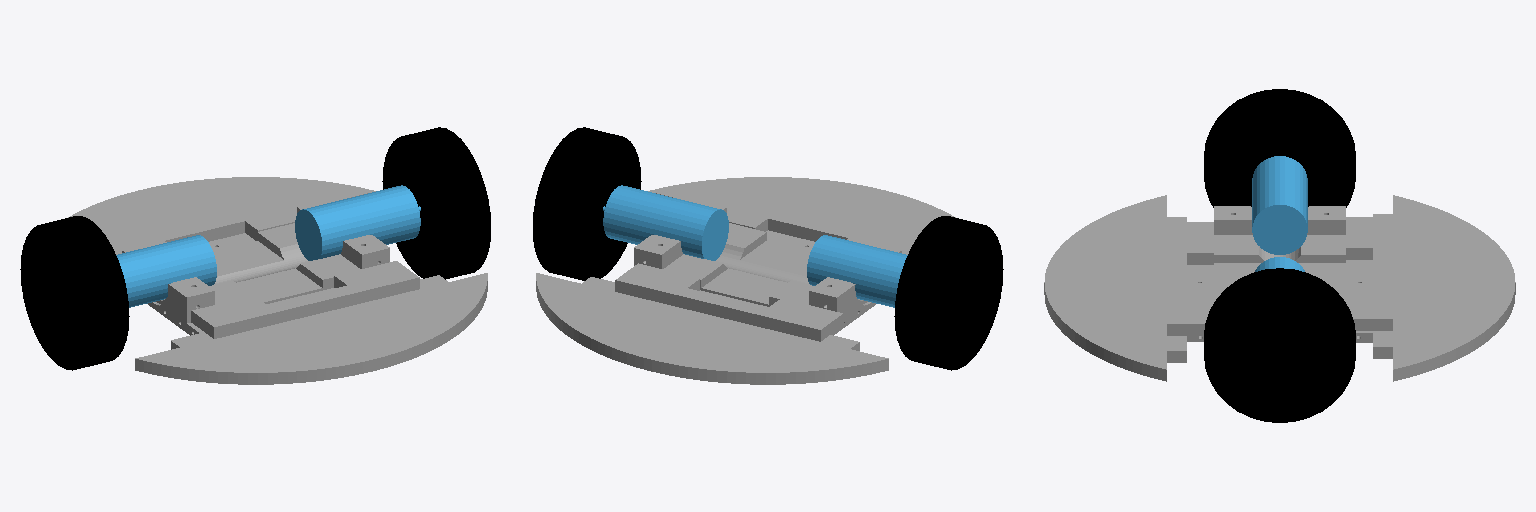
robot.urdf — pass_the_butter:
<robot name="pass_the_butter">
    <link name="base_link"/>

    <link name="base">
        <inertial>
            <origin xyz="0.0 0.0 0.0" rpy="0.0 0.0 0.0"/>
            <mass value="1.0"/>
            <inertia ixx="0.0" ixy="0.0" ixz="0.0" iyy="0.0" iyz="0.0" izz="0.0"/>
        </inertial>
        <visual name="motor_base">
            <origin xyz="0.0 0.0 -0.03" rpy="0.0 0.0 1.57"/>
            <geometry>
                <mesh filename="package://pass_the_butter_description/meshes/visual/base_full.dae"/>
            </geometry>
        </visual>
        <visual name="front_bumper">
            <origin xyz="0.0 0.0 -0.032" rpy="0.0 0.0 1.57"/>
            <geometry>
                <mesh filename="package://pass_the_butter_description/meshes/visual/bumper.dae"/>
            </geometry>
        </visual>
        <visual name="rear_bumper">
            <origin xyz="0.0 -0.0 -0.032" rpy="0.0 0.0 -1.57"/>
            <geometry>
                <mesh filename="package://pass_the_butter_description/meshes/visual/bumper.dae"/>
            </geometry>
        </visual>
        <visual>
            <origin xyz="0.09 0.0 0.0" rpy="0.0 1.57 0.0"/>
            <geometry>
                <cylinder radius="0.021" length="0.087"/>
            </geometry>
        </visual>
        <visual>
            <origin xyz="-0.09 0.0 0.0" rpy="0.0 1.57 0.0"/>
            <geometry>
                <cylinder radius="0.021" length="0.087"/>
            </geometry>
        </visual>
        <visual>
            <origin xyz="-0.14 0.0 0.0" rpy="0.0 1.57 0.0"/>
            <geometry>
                <cylinder radius="0.002" length="0.012"/>
            </geometry>
        </visual>
        <visual>
            <origin xyz="0.14 0.0 0.0" rpy="0.0 1.57 0.0"/>
            <geometry>
                <cylinder radius="0.002" length="0.012"/>
            </geometry>
        </visual>
        <!-- TODO -->
        <!-- <collision>
            <origin xyz="0.0 0.0 0.0" rpy="0.0 0.0 0.0"/>
            <geometry>
                <mesh filename="package://pass_the_butter_description/meshes/collision/base_full.stl"/>                
            </geometry>
        </collision>>-->
    </link>

    <joint name="base_base_link" type="fixed">
        <origin xyz="0.0 0.0 0.0" rpy="0.0 0.0 0.0"/>
        <parent link="base_link"/>
        <child link="base"/>
    </joint>
    
    <link name="wheel_left">
        <inertial>
            <origin xyz="0.0 0.0 0.0" rpy="0.0 0.0 0.0"/>
            <mass value="1.0"/>
            <inertia ixx="0.0" ixy="0.0" ixz="0.0" iyy="0.0" iyz="0.0" izz="0.0"/>
        </inertial>
        <visual>
            <origin xyz="0.0 0.0 0.0" rpy="0.0 0.0 0.0"/>
            <geometry>
                <cylinder radius="0.0575" length="0.03"/>
            </geometry>
            <material name="">
                <color rgba="0.0 0.0 0.0 1.0"/>
            </material>
        </visual>
        <collision>
            <origin xyz="0.0 0.0 0.0" rpy="1.570796 0.0 0.0"/>
            <geometry>
                <cylinder radius="0.0575" length="0.03"/>
            </geometry>
        </collision>
    </link>

    <joint name="base_wheel_left" type="revolute">
        <origin xyz="-0.16 0.0 0.0" rpy="1.570796 0.0 1.570796"/>
        <parent link="base"/>
        <child link="wheel_left"/>
        <axis xyz="1.0 0.0 0.0"/>
        <limit lower="0.0" upper="0.0" effort="0.0" velocity="0.0"/>
    </joint>

    <link name="wheel_right">
        <inertial>
            <origin xyz="0.0 0.0 0.0" rpy="0.0 0.0 0.0"/>
            <mass value="1.0"/>
            <inertia ixx="0.0" ixy="0.0" ixz="0.0" iyy="0.0" iyz="0.0" izz="0.0"/>
        </inertial>
        <visual>
            <origin xyz="0.0 0.0 0.0" rpy="0.0 0.0 0.0"/>
            <geometry>
                <cylinder radius="0.0575" length="0.03"/>
            </geometry>
            <material name="">
                <color rgba="0.0 0.0 0.0 1.0"/>
            </material>
        </visual>
        <collision>
            <origin xyz="0.0 0.0 0.0" rpy="0.0 0.0 0.0"/>
            <geometry>
                <cylinder radius="0.0575" length="0.03"/>
            </geometry>
        </collision>
    </link>

    <joint name="base_wheel_right" type="revolute">
        <origin xyz="0.16 0.0 0.0" rpy="1.570796 0.0 1.570796"/>
        <parent link="base"/>
        <child link="wheel_right"/>
        <axis xyz="1.0 0.0 0.0"/>
        <limit lower="0.0" upper="0.0" effort="0.0" velocity="0.0"/>
    </joint>
</robot>

--- Facts derived from the render (not from the file) ---
Views: 3 orthographic renders of the robot side by side, from view 1: azimuth 30°, elevation 25°; view 2: azimuth 150°, elevation 25°; view 3: azimuth 270°, elevation 25°.
Robot: pass_the_butter — 4 links, 3 joints (2 revolute, 1 fixed); root link base_link; default pose: all joints at 0.
Links seen in each view (by area): view 1: base, wheel_left, wheel_right; view 2: base, wheel_left, wheel_right; view 3: base, wheel_right, wheel_left.
Link boxes in pixels (left/top/right/bottom): base: left=68, top=177, right=487, bottom=384; wheel_left: left=20, top=216, right=129, bottom=370; wheel_right: left=382, top=127, right=490, bottom=279; base: left=536, top=177, right=955, bottom=384; wheel_left: left=894, top=216, right=1003, bottom=370; wheel_right: left=533, top=127, right=641, bottom=280; base: left=1044, top=156, right=1515, bottom=381; wheel_right: left=1204, top=268, right=1355, bottom=422; wheel_left: left=1204, top=89, right=1355, bottom=207.
Size in the robot's own frame: 0.35 by 0.3551 by 0.115 metres.
Meshes: 2 distinct files referenced, 3 mesh visuals loaded (2 Collada DAE).